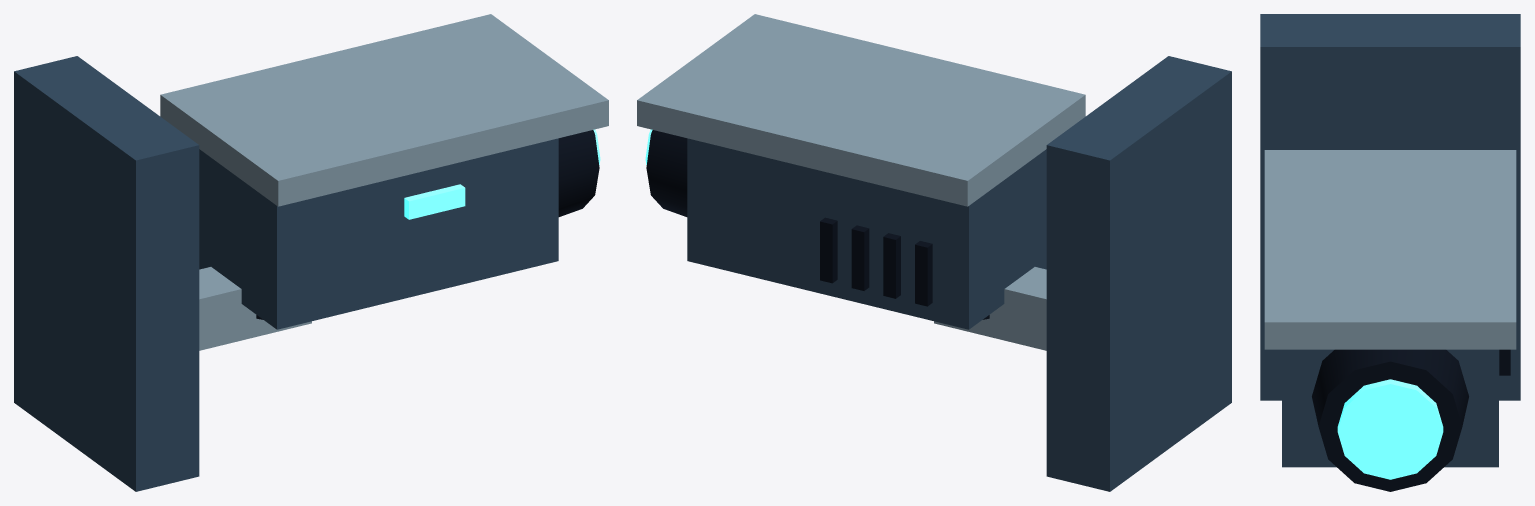
Rendered from camera.glb.
3 views of the same model, side by side, from view 1: azimuth 30°, elevation 25°; view 2: azimuth 150°, elevation 25°; view 3: azimuth 270°, elevation 25° (orthographic). The views are drawn at different scales.
Visible parts, largest first — view 1: security-camera-sz-armor, camera-gimbal-sz-edge, camera-gimbal-sz-armor, security-camera-sz-edge, camera-gimbal-sz-rubber, camera-gimbal-sz-security-indicator; view 2: security-camera-sz-armor, camera-gimbal-sz-edge, camera-gimbal-sz-armor, camera-gimbal-sz-rubber, security-camera-sz-edge; view 3: camera-gimbal-sz-edge, security-camera-sz-armor, camera-gimbal-sz-rubber, camera-gimbal-sz-armor, camera-gimbal-sz-security-indicator.
Boxes of the visible parts, x1,y1,x2,y2 form: security-camera-sz-armor: [14, 56, 199, 491]; camera-gimbal-sz-edge: [160, 14, 608, 206]; camera-gimbal-sz-armor: [199, 138, 558, 329]; security-camera-sz-edge: [199, 267, 311, 350]; camera-gimbal-sz-rubber: [558, 130, 599, 216]; camera-gimbal-sz-security-indicator: [404, 129, 600, 219]; security-camera-sz-armor: [1046, 56, 1231, 491]; camera-gimbal-sz-edge: [637, 14, 1085, 206]; camera-gimbal-sz-armor: [687, 138, 1046, 329]; camera-gimbal-sz-rubber: [646, 130, 932, 306]; security-camera-sz-edge: [934, 267, 1046, 350]; camera-gimbal-sz-edge: [1264, 150, 1516, 349]; security-camera-sz-armor: [1260, 14, 1520, 400]; camera-gimbal-sz-rubber: [1312, 349, 1510, 491]; camera-gimbal-sz-armor: [1282, 349, 1498, 467]; camera-gimbal-sz-security-indicator: [1337, 379, 1443, 479].
Bounding box in the file's own units: 0.7115 × 0.45 × 0.3.
